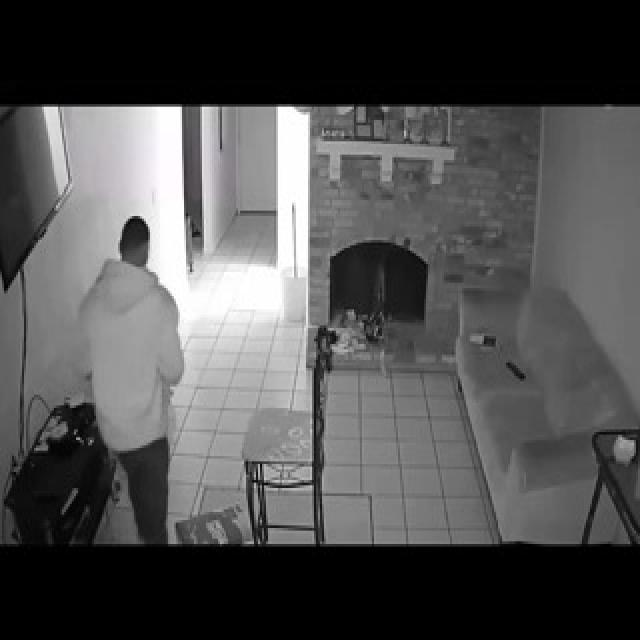thief: (99, 202, 172, 414)
